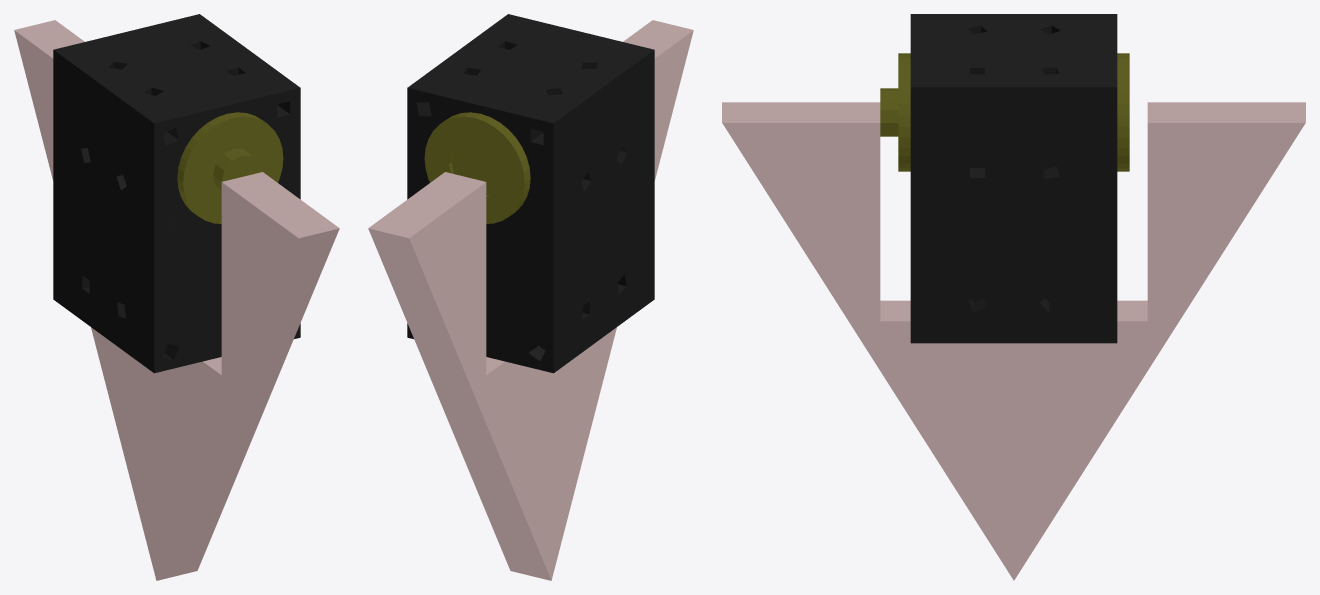
File: assembler_actuator.dae
3 views of the same model, side by side, from view 1: azimuth 30°, elevation 25°; view 2: azimuth 150°, elevation 25°; view 3: azimuth 270°, elevation 25° (orthographic). The views are drawn at different scales.
Parts seen in each view (by area): view 1: eus_glvertices (×3); view 2: eus_glvertices (×3); view 3: eus_glvertices (×3).
Boxes of the visible parts, <box> form: eus_glvertices (×3): <box>14,14,339,580</box>; eus_glvertices (×3): <box>368,14,693,580</box>; eus_glvertices (×3): <box>722,14,1305,580</box>.
Bounding box in the file's own units: 0.0285 × 0.0944 × 0.096.
